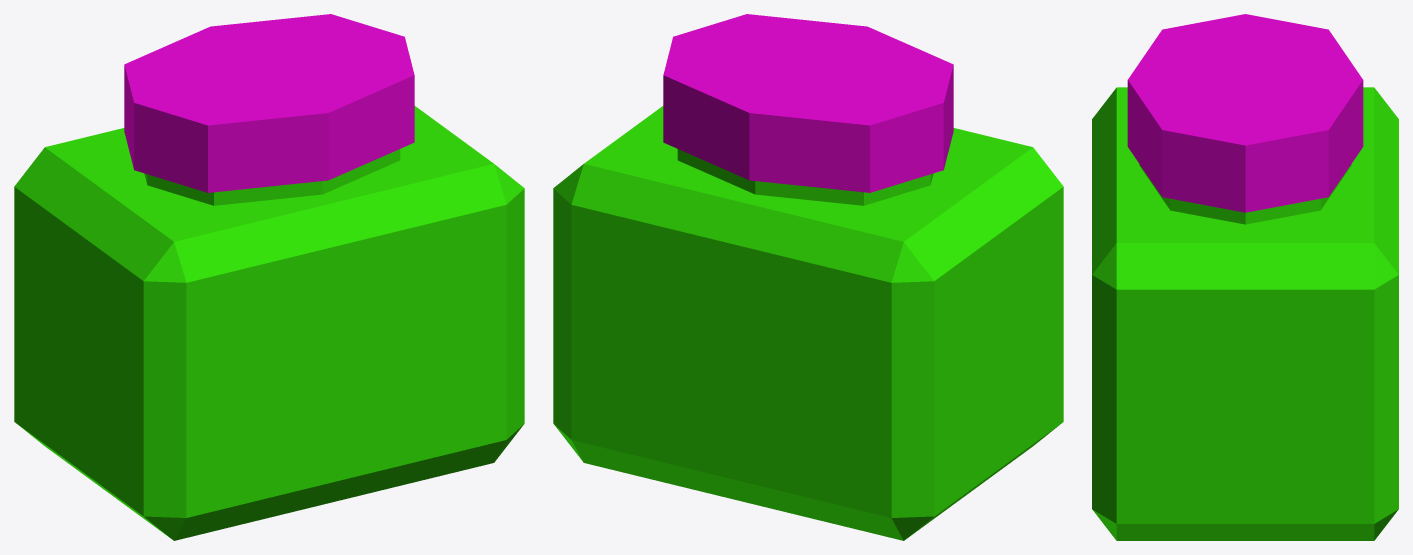
The model's file is Ink.fbx.
3 views of the same model, side by side, from view 1: azimuth 30°, elevation 25°; view 2: azimuth 150°, elevation 25°; view 3: azimuth 270°, elevation 25° (orthographic).
Parts seen in each view (by area): view 1: Ink; view 2: Ink; view 3: Ink.
Part boxes in pixels (x1,y1,x2,y2): Ink: [14, 14, 524, 540]; Ink: [553, 14, 1063, 540]; Ink: [1092, 14, 1398, 540].
Bounding box in the file's own units: 10.56 × 10.19 × 7.39.
